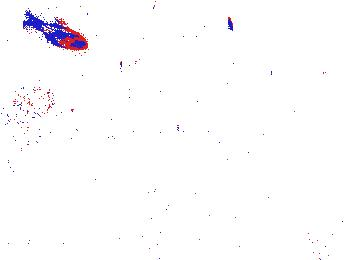X-ray fish: (13, 84, 52, 118)
red belly glassfish: (28, 13, 88, 51), (299, 64, 336, 85)
